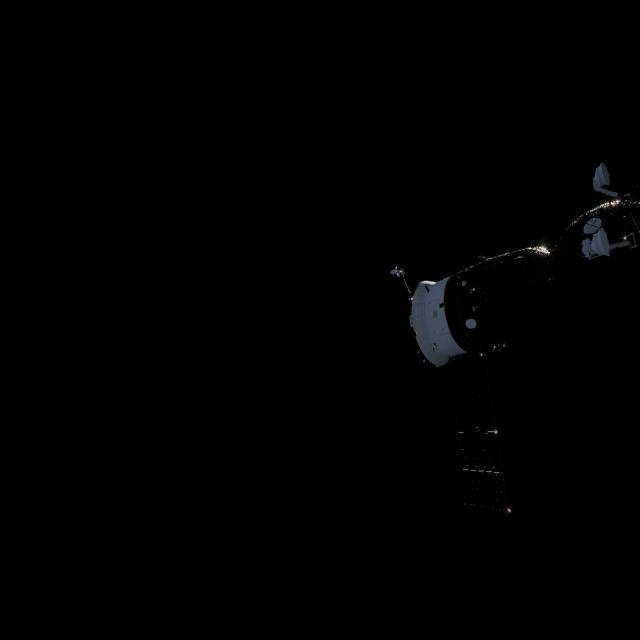Satellites revolving around earth: (389, 183, 639, 523)
